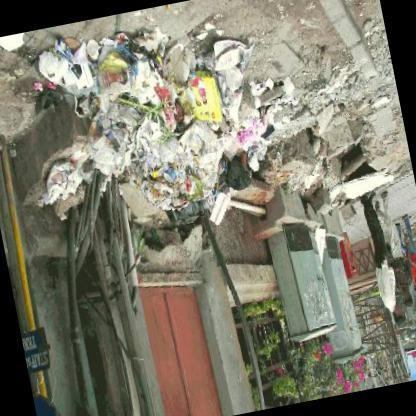Garbage: (10, 25, 124, 117), (113, 16, 189, 148), (178, 56, 230, 126), (26, 155, 87, 209), (146, 154, 200, 206), (221, 120, 290, 160)
